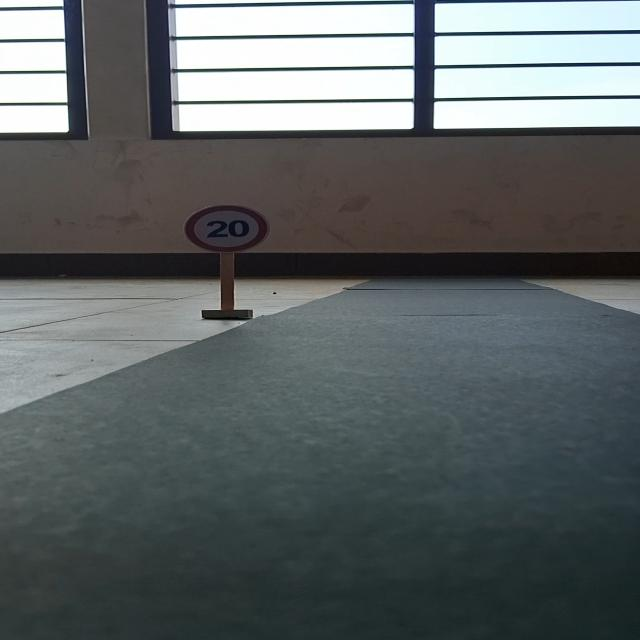Speed20: (174, 200, 282, 256)
